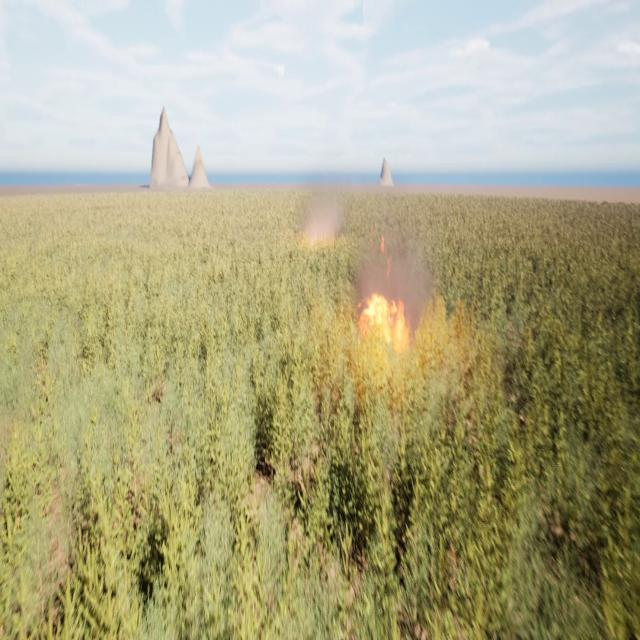fire: (355, 292, 410, 341)
smoke: (354, 232, 427, 330), (296, 188, 340, 250)
